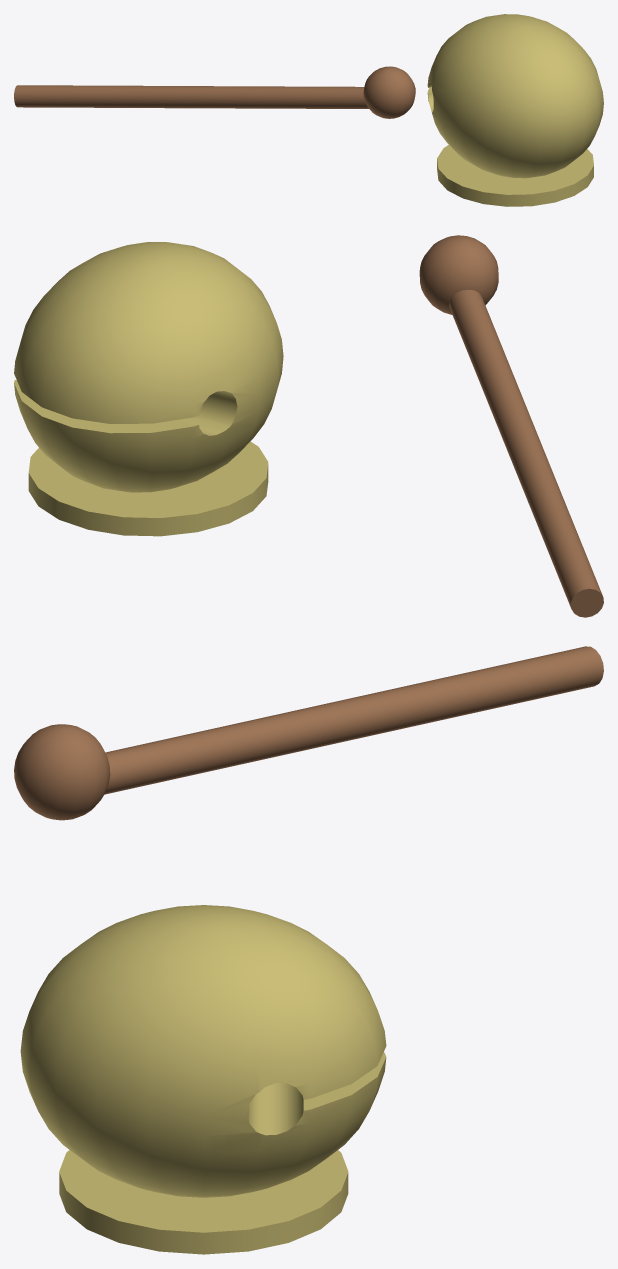
Rendered from Anim_wooden_fish_drum.fbx.
3 views of the same model, one above another, from view 1: azimuth 30°, elevation 25°; view 2: azimuth 150°, elevation 25°; view 3: azimuth 270°, elevation 25° (orthographic). The views are drawn at different scales.
Parts seen in each view (by area): view 1: wooden_fish_drum1, stick_sphere1, stage; view 2: wooden_fish_drum1, stick_sphere1, stage; view 3: wooden_fish_drum1, stick_sphere1, stage.
Part boxes in pixels (x1=…): wooden_fish_drum1: x1=427, y1=14, x2=603, y2=178; stick_sphere1: x1=14, y1=66, x2=415, y2=118; stage: x1=437, y1=145, x2=593, y2=206; wooden_fish_drum1: x1=14, y1=242, x2=283, y2=492; stick_sphere1: x1=419, y1=235, x2=603, y2=617; stage: x1=28, y1=441, x2=268, y2=536; wooden_fish_drum1: x1=20, y1=905, x2=386, y2=1197; stick_sphere1: x1=14, y1=646, x2=603, y2=820; stage: x1=59, y1=1150, x2=348, y2=1254.
Bounding box in the file's own units: 41.48 × 14.53 × 24.47.
